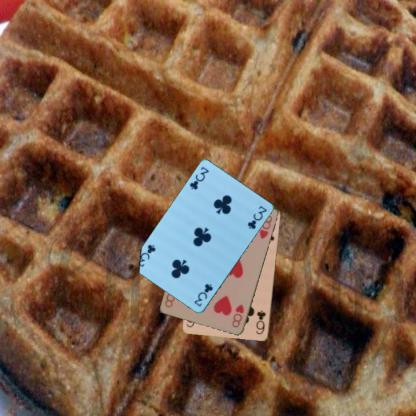3c: (192, 281, 214, 308), (188, 164, 210, 191)
6c: (254, 308, 267, 336)
8h: (230, 302, 246, 329)
